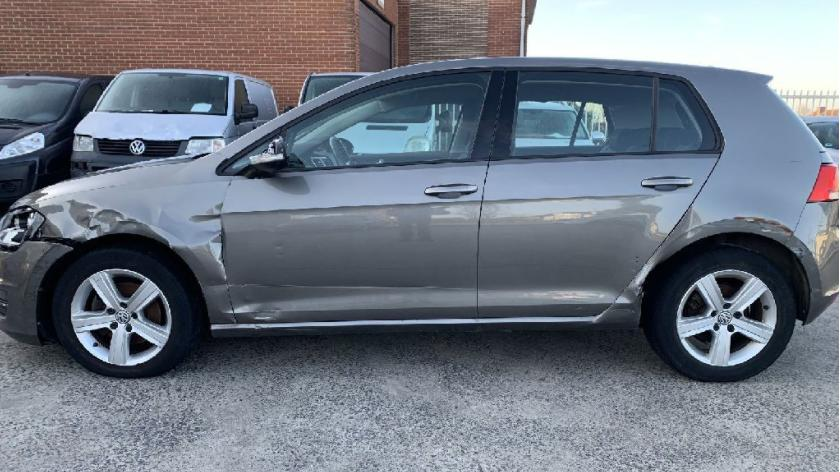Back-bumper: (784, 201, 839, 325)
Back-door: (477, 66, 726, 318)
Back-wheel: (642, 243, 797, 383)
Back-window: (509, 71, 653, 156), (655, 78, 716, 151)
Fender: (29, 153, 237, 324)
Front-bumper: (0, 241, 74, 347)
Front-door: (215, 66, 507, 323)
Front-wheel: (52, 240, 202, 377)
Front-window: (286, 72, 491, 167), (222, 134, 278, 172)
Headlight: (0, 205, 46, 253)
Hood: (9, 153, 209, 210)
Mirror: (242, 134, 288, 180)
Quarter-panel: (596, 141, 835, 321)
Rocker-panel: (211, 316, 639, 337)
Tail-light: (805, 161, 839, 202)
